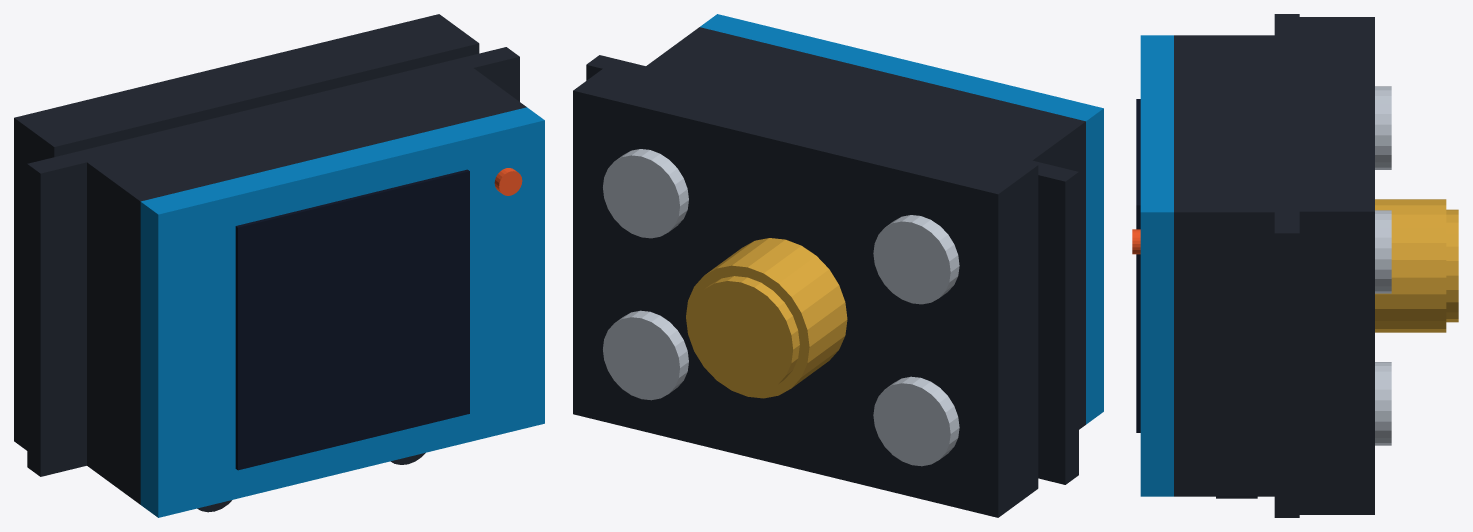
Rendered from aquapulse_full_assembly.obj.
The picture shows the model from 3 angles, left to right: view 1: azimuth 30°, elevation 25°; view 2: azimuth 150°, elevation 25°; view 3: azimuth 270°, elevation 25°; orthographic projection. The views are drawn at different scales.
Visible parts, largest first — view 1: Enclosure_Lid, Enclosure_Base, Solar_Panel, Saddle_Bracket, LED_LightPipe; view 2: Saddle_Bracket, Enclosure_Base, Neodymium_Magnets, Acoustic_Probe, Enclosure_Lid; view 3: Enclosure_Base, Saddle_Bracket, Enclosure_Lid, Acoustic_Probe, Neodymium_Magnets, Solar_Panel.
Boxes of the visible parts, x1,y1,x2,y2 form: Enclosure_Lid: [140, 107, 544, 517]; Enclosure_Base: [27, 47, 526, 512]; Solar_Panel: [235, 169, 469, 470]; Saddle_Bracket: [14, 14, 479, 450]; LED_LightPipe: [494, 168, 522, 195]; Saddle_Bracket: [573, 61, 1038, 517]; Enclosure_Base: [586, 27, 1085, 484]; Neodymium_Magnets: [603, 149, 959, 466]; Acoustic_Probe: [686, 238, 847, 398]; Enclosure_Lid: [700, 14, 1103, 424]; Enclosure_Base: [1174, 14, 1299, 517]; Saddle_Bracket: [1299, 17, 1374, 514]; Enclosure_Lid: [1140, 35, 1173, 496]; Acoustic_Probe: [1375, 199, 1458, 332]; Neodymium_Magnets: [1375, 86, 1391, 445]; Solar_Panel: [1136, 99, 1140, 432].
Bounding box in the file's own units: 124 × 89 × 78.
